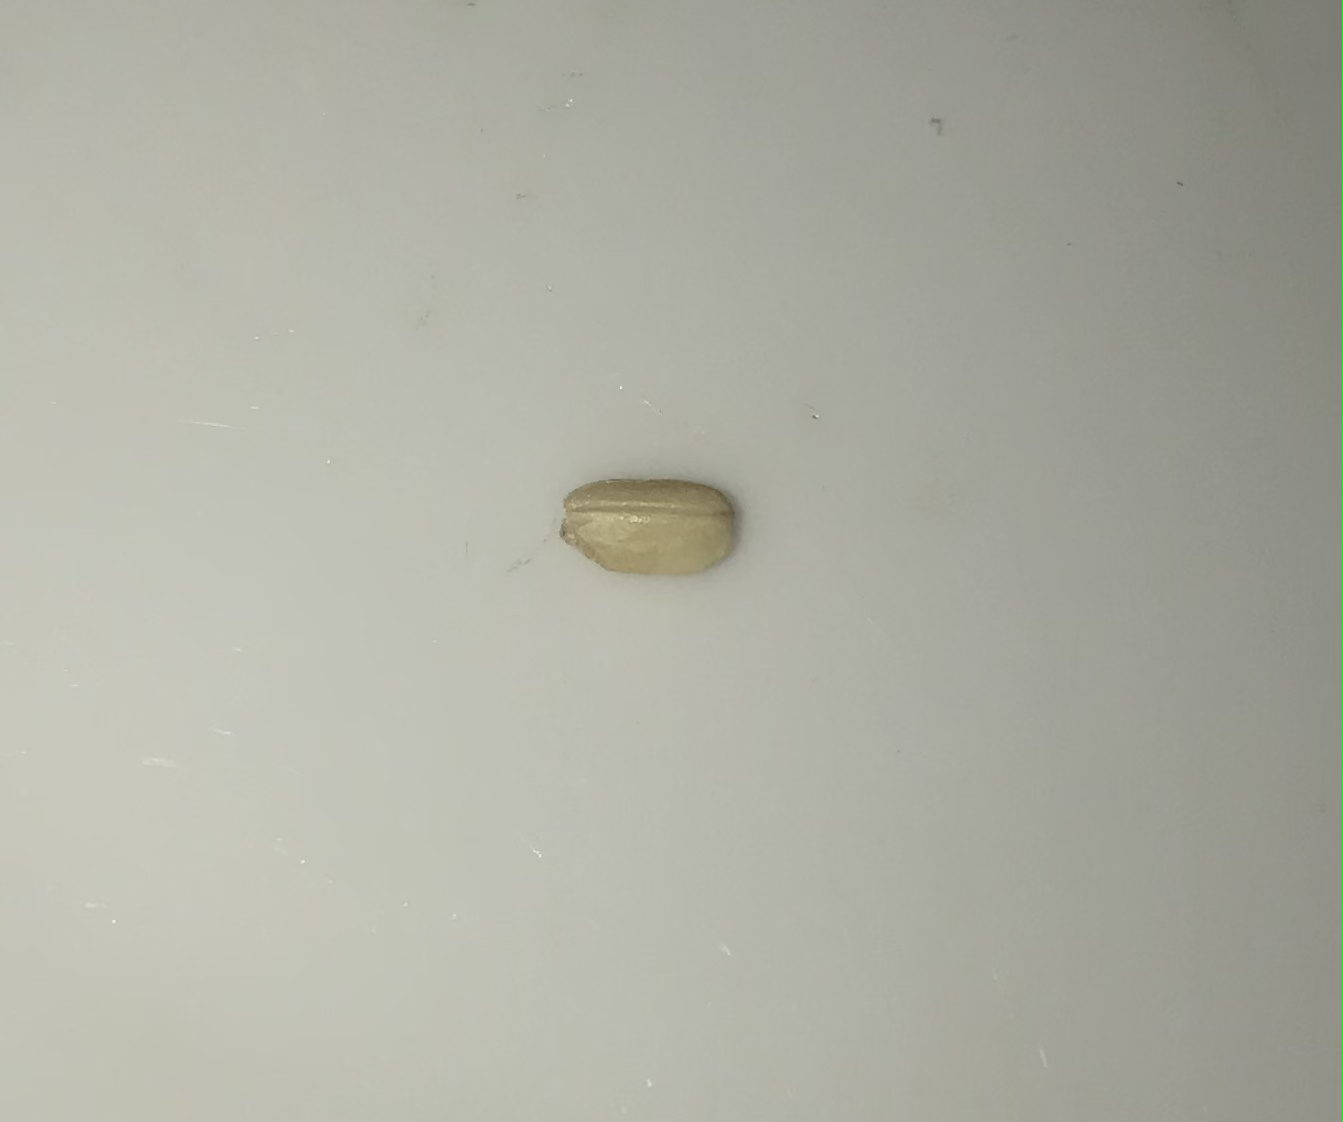Gao Lut Bac: (555, 471, 741, 575)
